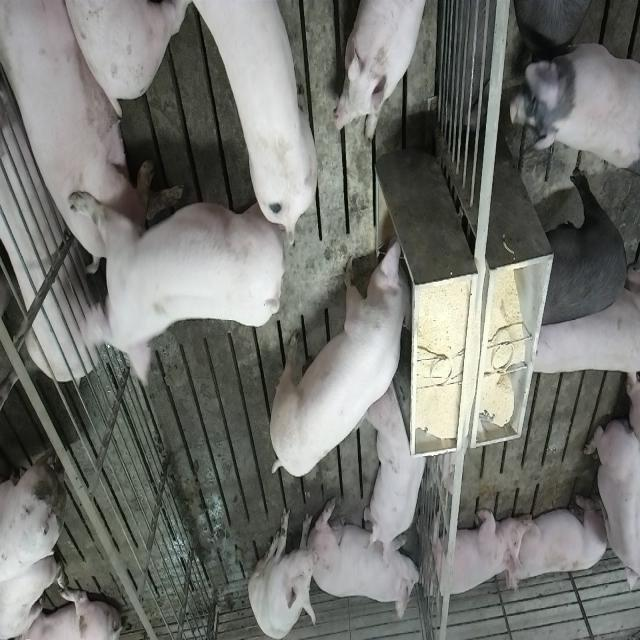Feeding: (272, 229, 420, 479)
Sitting: (248, 502, 318, 638)
Standing: (66, 155, 290, 388), (190, 2, 320, 245), (509, 26, 639, 178), (534, 170, 626, 332), (526, 286, 636, 372), (512, 0, 600, 46)
Sternal_lying: (4, 3, 146, 224), (332, 0, 432, 140), (314, 502, 422, 622), (368, 379, 430, 562), (583, 412, 637, 602), (508, 491, 610, 589), (425, 506, 520, 602)
